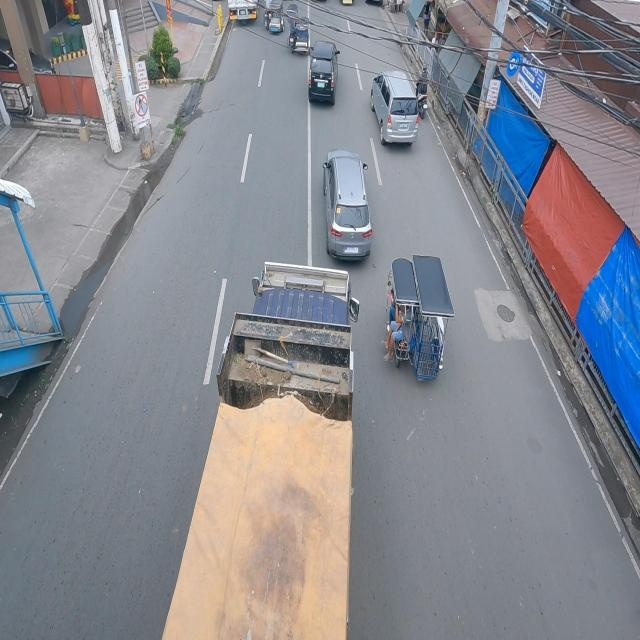Truck: (159, 257, 358, 640)
Van: (371, 67, 418, 147)
